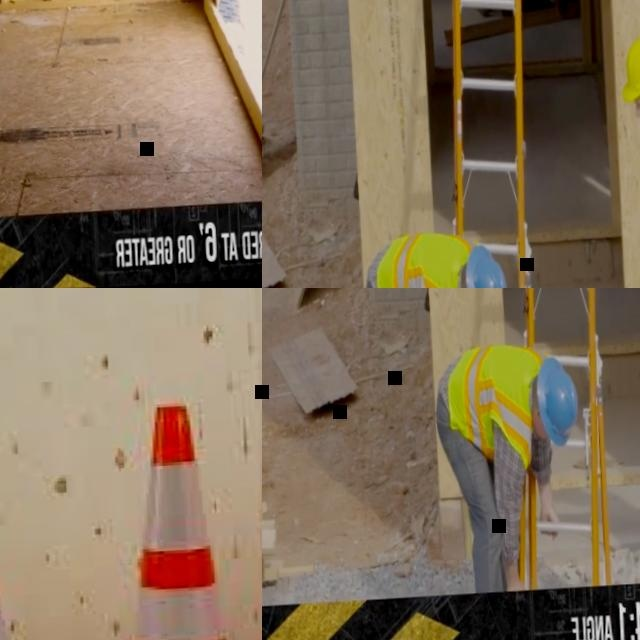Hardhat: (536, 356, 581, 448), (464, 243, 510, 288), (619, 34, 640, 105)
NO-Mask: (535, 422, 545, 442)
Person: (430, 338, 587, 593), (359, 226, 515, 288), (473, 0, 566, 21)
Safety Cone: (56, 383, 262, 640)
Safety Vest: (446, 341, 546, 476), (374, 229, 474, 288)
